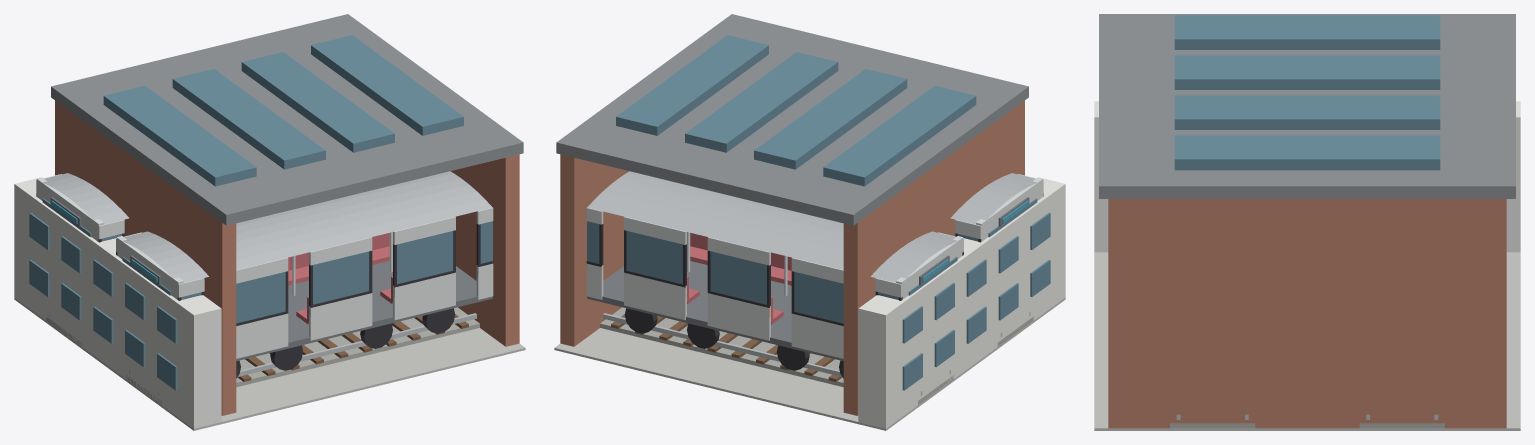
Rendered from metro-depot.fbx.
3 renders of one model, left to right at view 1: azimuth 30°, elevation 25°; view 2: azimuth 150°, elevation 25°; view 3: azimuth 270°, elevation 25°, orthographic. The views are drawn at different scales.
Parts seen in each view (by area): view 1: metro-depot; view 2: metro-depot; view 3: metro-depot.
Part boxes in pixels (<box>): metro-depot: <box>14,14,525,430</box>; metro-depot: <box>554,14,1065,430</box>; metro-depot: <box>1094,14,1520,430</box>.
Bounding box in the file's own units: 965 × 595 × 900.
